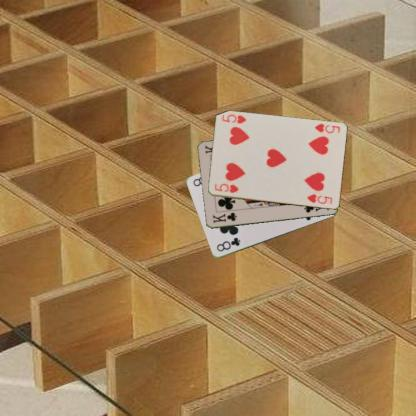5h: (312, 121, 341, 134), (212, 181, 240, 194)
8c: (214, 235, 241, 253)
Kc: (210, 210, 238, 224)
